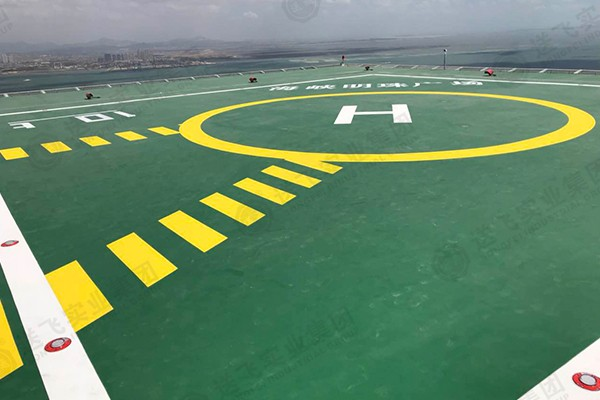H: (332, 103, 416, 123)
